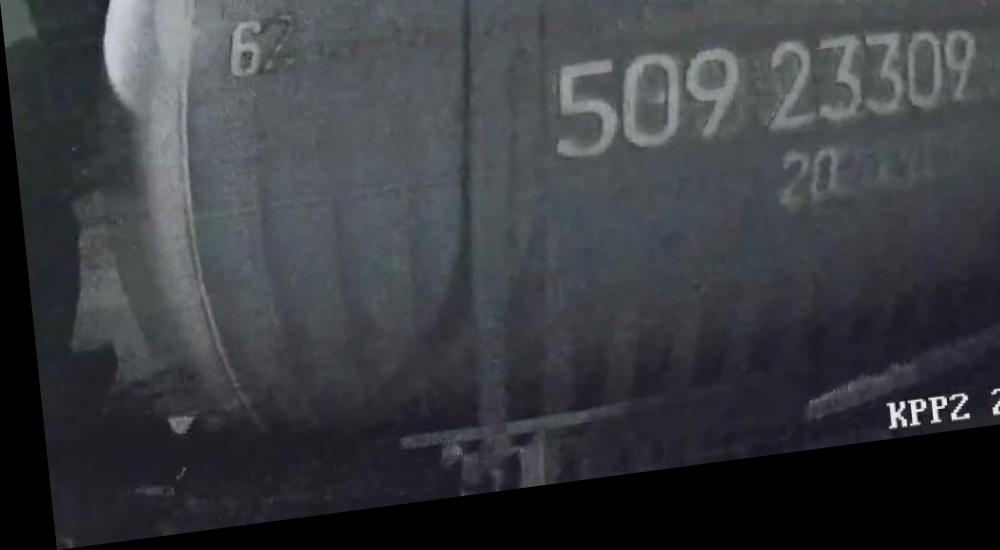Wagon-number: (537, 28, 980, 182)
